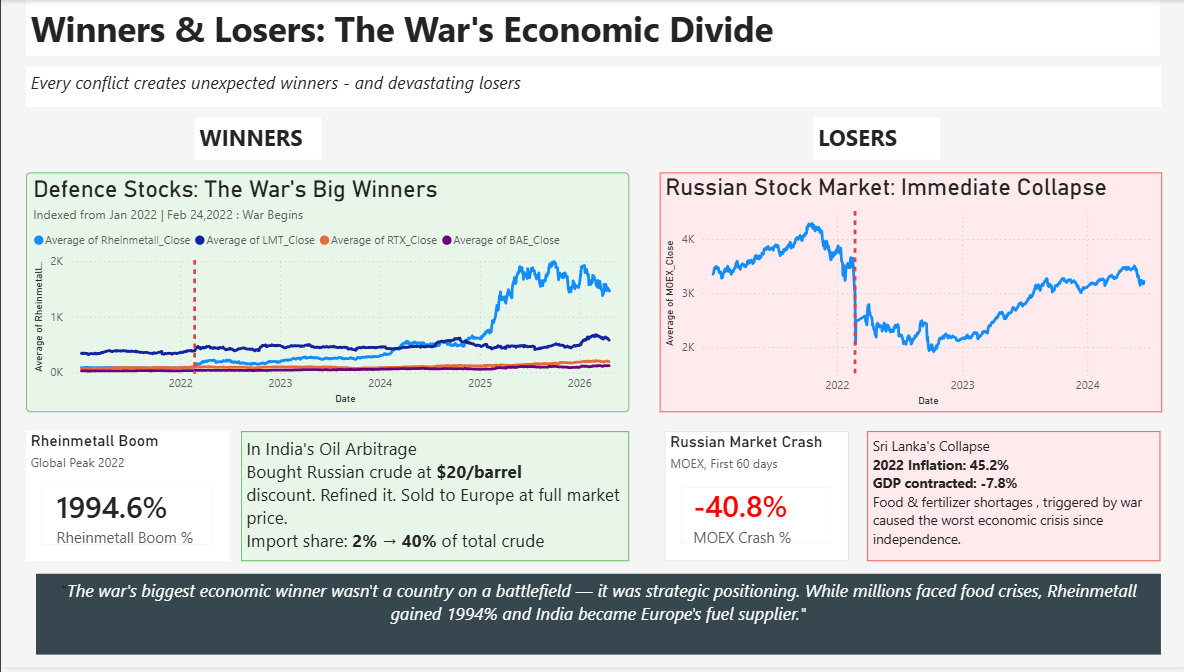

This screenshot's page, from the dashboard's own definition file:
{"tool":"powerbi","page":{"name":"3. Winners vs Losers","canvas":[1280,720],"ordinal":2},"visuals":[{"type":"textbox","box":[27.5,0,1222.5,60],"z":0},{"type":"textbox","box":[27.1,71.4,1224.3,44.3],"z":1000},{"type":"lineChart","title":"Defence Stocks: The War''s Big Winners ","fields":{"Y":["Avg(Rheinmetall.Rheinmetall_Close)","Avg(LMT.LMT_Close)","Avg(RTX.RTX_Close)","Avg(BAE.BAE_Close)"],"Category":["DimDate.Date"]},"box":[27.1,185.7,650,258.6],"z":2000},{"type":"lineChart","title":"Russian Stock Market: Immediate Collapse","fields":{"Category":["DimDate.Date"],"Y":["Avg(MOEX.MOEX_Close)"]},"box":[710,185.7,541.4,258.6],"z":3000},{"type":"cardVisual","title":"Rheinmetall Boom","fields":{"Data":["Rheinmetall.Rheinmetall Boom %"]},"box":[26.7,464.4,218.9,140],"z":4000},{"type":"cardVisual","title":"Russian Market Crash","fields":{"Data":["MOEX.MOEX Crash %"]},"box":[715.7,464.3,198.6,140],"z":5000},{"type":"textbox","box":[258.6,464.3,418.6,140],"z":6000},{"type":"textbox","box":[208.6,127.1,137.1,45.7],"z":7000},{"type":"textbox","box":[934.3,464.3,315.7,140],"z":8000},{"type":"textbox","box":[875.7,127.1,137.1,45.7],"z":9000},{"type":"textbox","box":[37.1,618.6,1212.9,87.1],"z":10000}]}

Visuals, with their boxes in screenshot pixels (x1, y1, x2, y2), scaled from the page's 1280x720 canvas onto the 1184x672 screenshot:
textbox: <bbox>25, 0, 1156, 56</bbox>
textbox: <bbox>25, 67, 1158, 108</bbox>
"Defence Stocks: The War''s Big Winners " lineChart: <bbox>25, 173, 626, 415</bbox>
"Russian Stock Market: Immediate Collapse" lineChart: <bbox>657, 173, 1158, 415</bbox>
"Rheinmetall Boom" cardVisual: <bbox>25, 433, 227, 564</bbox>
"Russian Market Crash" cardVisual: <bbox>662, 433, 846, 564</bbox>
textbox: <bbox>239, 433, 626, 564</bbox>
textbox: <bbox>193, 119, 320, 161</bbox>
textbox: <bbox>864, 433, 1156, 564</bbox>
textbox: <bbox>810, 119, 937, 161</bbox>
textbox: <bbox>34, 577, 1156, 659</bbox>
